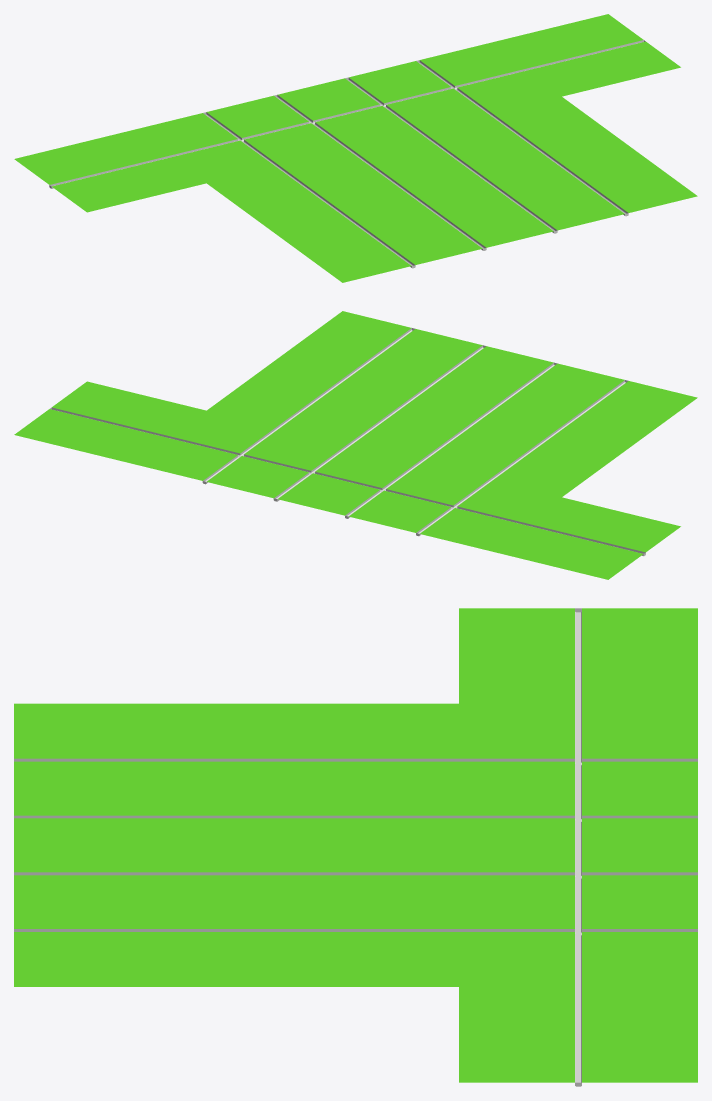
Rendered from L1V2_Small_Passage_Roof.fbx.
3 views of the same model, one above another, from view 1: azimuth 30°, elevation 25°; view 2: azimuth 150°, elevation 25°; view 3: azimuth 270°, elevation 25° (orthographic). The views are drawn at different scales.
Visible parts, largest first — view 1: Plane.013; view 2: Plane.013; view 3: Plane.013.
Boxes of the visible parts, bbox=[...] form: Plane.013: bbox=[14, 14, 697, 282]; Plane.013: bbox=[14, 311, 697, 579]; Plane.013: bbox=[14, 608, 697, 1086].
Size of the model in its own units: 2520 by 10.43 by 1536.
